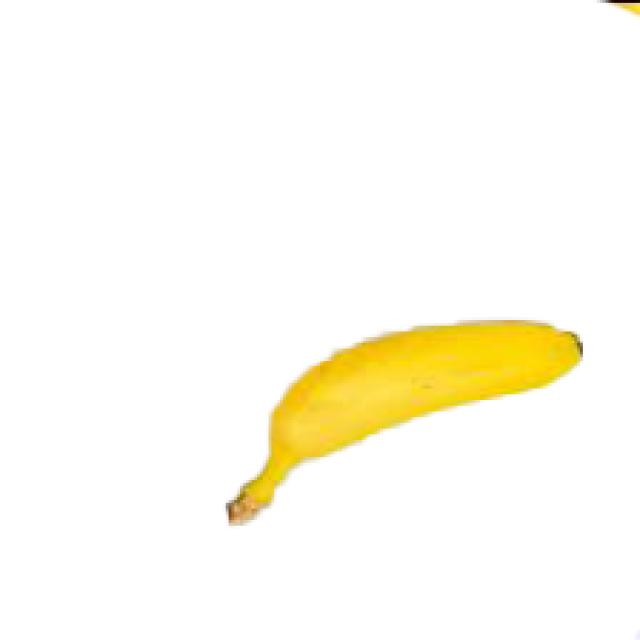fresh-banana: (223, 314, 583, 526)
